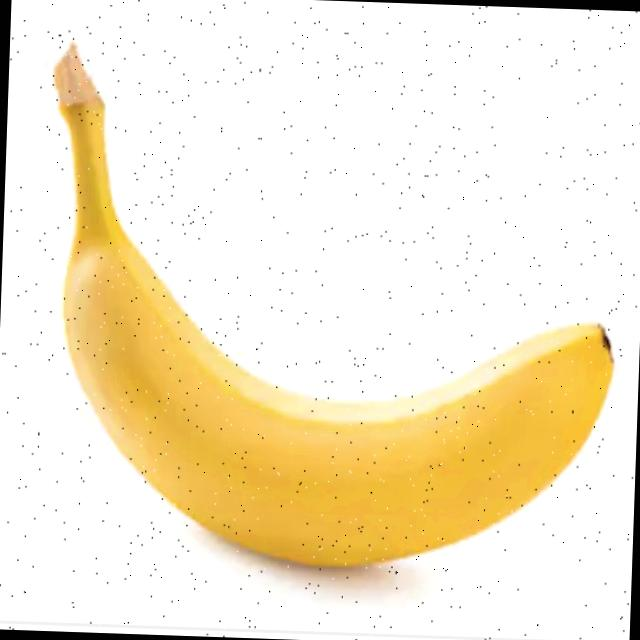banana: (27, 51, 631, 618)
